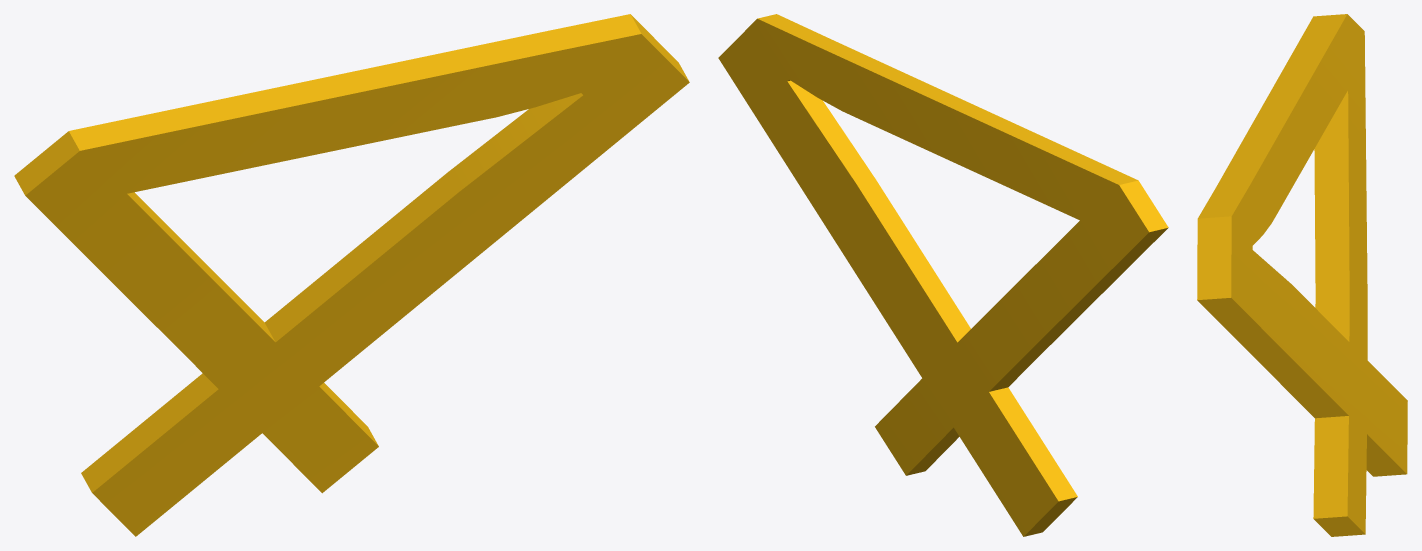
File: Number_4.gltf
3 renders of one model, left to right at view 1: azimuth 30°, elevation 25°; view 2: azimuth 150°, elevation 25°; view 3: azimuth 270°, elevation 25°, orthographic. The views are drawn at different scales.
Visible parts, largest first — view 1: Sub_1_Cell_2_1_Number_4; view 2: Sub_1_Cell_2_1_Number_4; view 3: Sub_1_Cell_2_1_Number_4.
Boxes of the visible parts, box(x1,y1,x2,y2) form: Sub_1_Cell_2_1_Number_4: box(14, 14, 689, 536); Sub_1_Cell_2_1_Number_4: box(718, 14, 1168, 536); Sub_1_Cell_2_1_Number_4: box(1197, 14, 1407, 536).
Size of the model in its own units: 0.0244 by 0.0183 by 0.00757.
